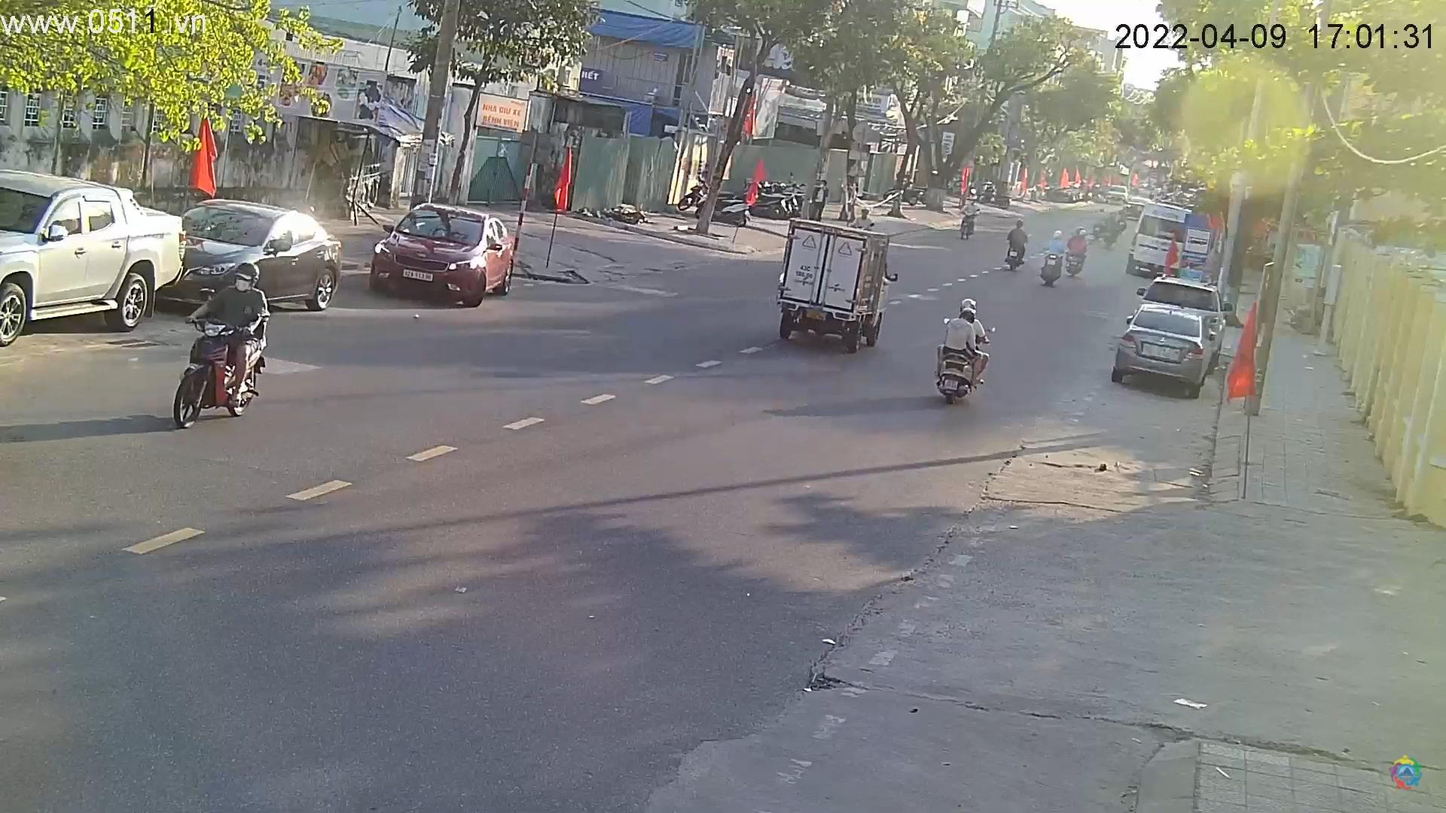car: (2, 166, 190, 354), (179, 202, 350, 313), (370, 206, 517, 307)
motorbike: (166, 265, 280, 435)
